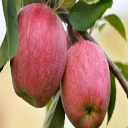apple: (60, 41, 111, 128)
